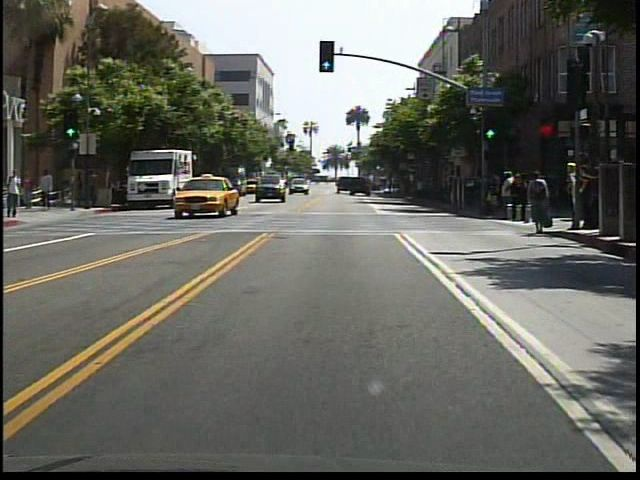person: (523, 168, 553, 237), (39, 165, 59, 214), (10, 168, 28, 220), (88, 168, 105, 208), (24, 171, 40, 213), (76, 170, 88, 207)
